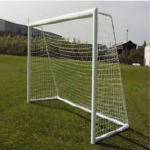goals: (26, 7, 131, 144)
